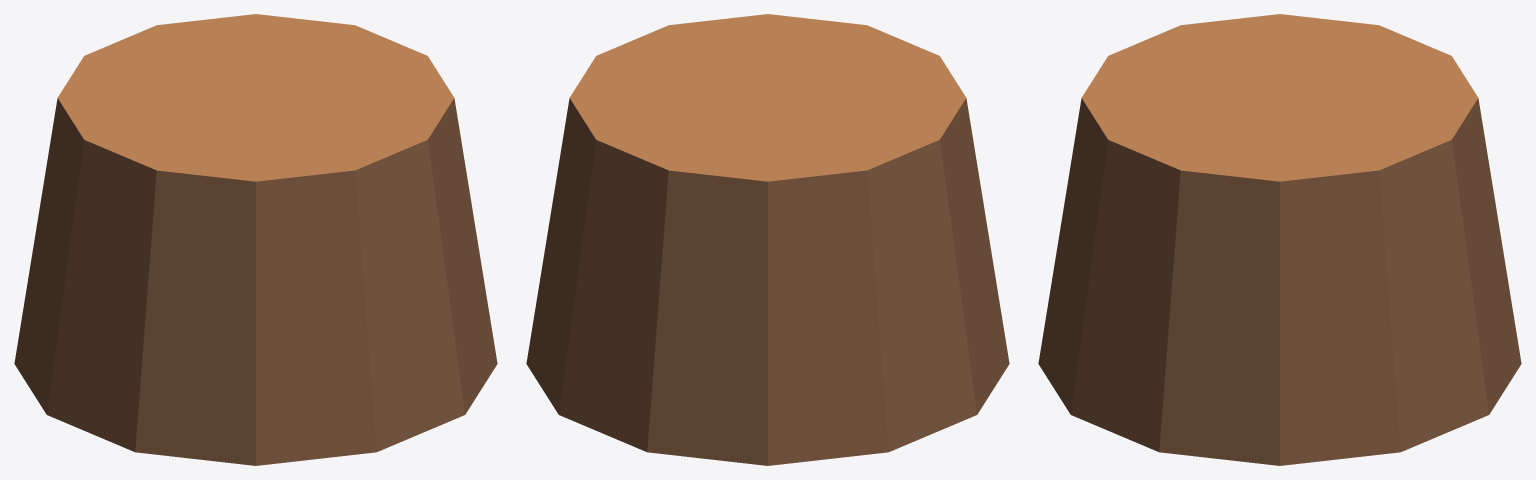
The model's file is DryTree2.fbx.
3 views of the same model, side by side, from view 1: azimuth 30°, elevation 25°; view 2: azimuth 150°, elevation 25°; view 3: azimuth 270°, elevation 25° (orthographic).
Visible parts, largest first — view 1: Cylinder.003; view 2: Cylinder.003; view 3: Cylinder.003.
Part boxes in pixels (bbox=[...]): Cylinder.003: bbox=[14, 14, 497, 465]; Cylinder.003: bbox=[526, 14, 1009, 465]; Cylinder.003: bbox=[1038, 14, 1521, 465].
Bounding box in the file's own units: 200 × 122 × 200.
